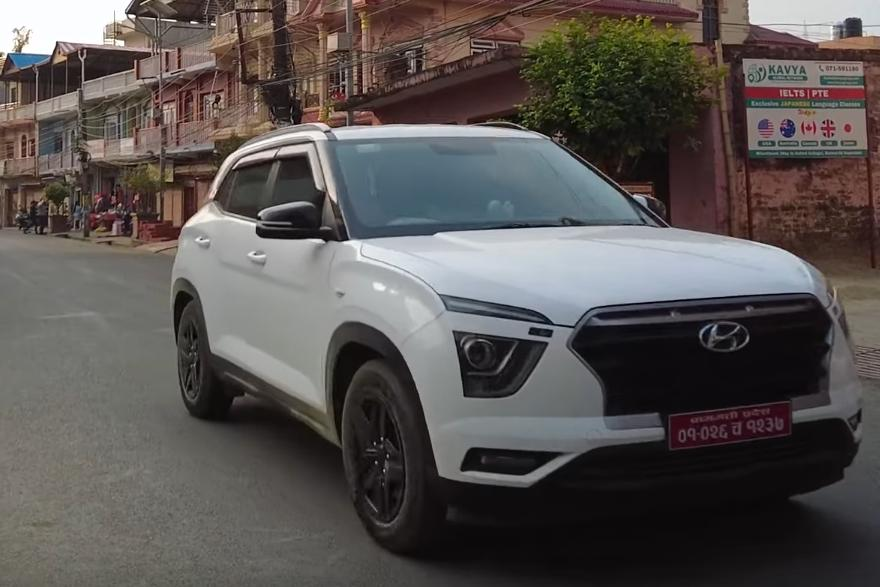car: (166, 119, 869, 551)
